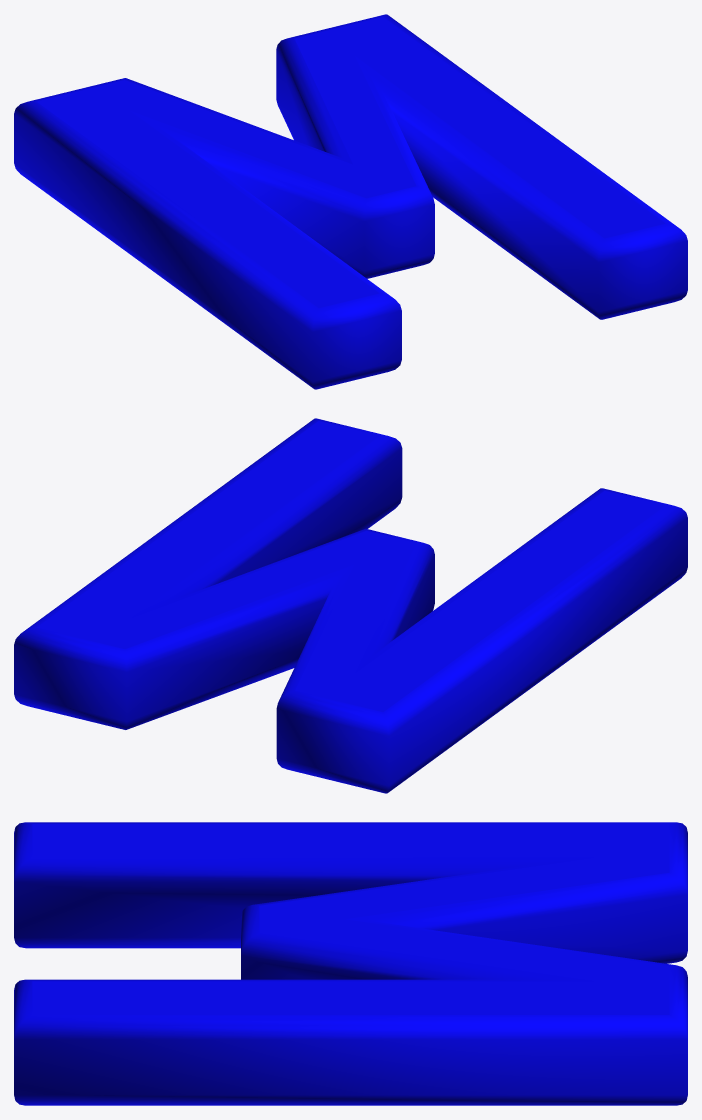
3 views of the same model, one above another, from view 1: azimuth 30°, elevation 25°; view 2: azimuth 150°, elevation 25°; view 3: azimuth 270°, elevation 25° (orthographic). The views are drawn at different scales.
Parts seen in each view (by area): view 1: 77; view 2: 77; view 3: 77.
Part boxes in pixels (x1,y1,x2,y2): 77: (14,14,687,389); 77: (14,418,687,793); 77: (14,822,687,1105).
Size of the model in its own units: 0.7972 by 0.16 by 1.1.
